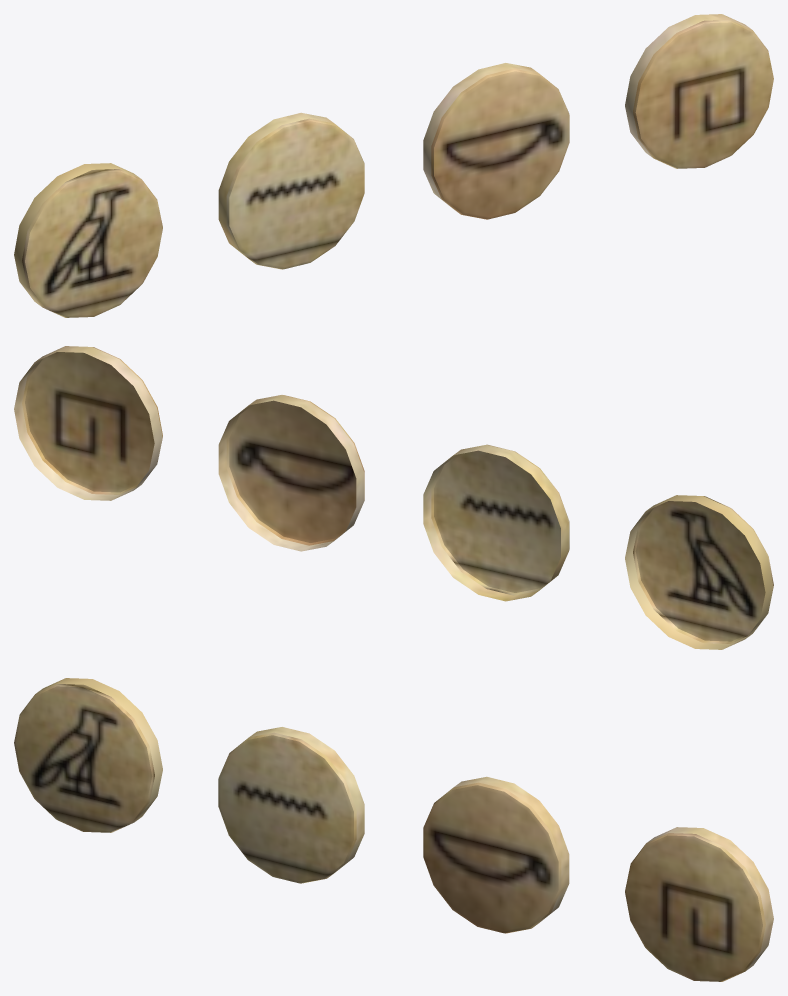
The model's file is Final Door Stone Tablets ANKH.fbx.
The picture shows the model from 3 angles, top to bottom: view 1: azimuth 30°, elevation 25°; view 2: azimuth 150°, elevation 25°; view 3: azimuth 330°, elevation 25°; orthographic projection.
Parts seen in each view (by area): view 1: Final Door A, Final Door H, Final Door K, Final Door N; view 2: Final Door A, Final Door H, Final Door K, Final Door N; view 3: Final Door A, Final Door H, Final Door N, Final Door K.
Boxes of the visible parts, x1,y1,x2,y2 form: Final Door A: (14,163,162,317); Final Door H: (625,14,773,168); Final Door K: (423,63,569,219); Final Door N: (218,112,364,269); Final Door A: (625,495,773,649); Final Door H: (14,346,162,500); Final Door K: (218,395,364,551); Final Door N: (423,444,569,601); Final Door A: (14,678,162,832); Final Door H: (625,827,773,981); Final Door N: (218,727,364,883); Final Door K: (423,776,569,933).
Bounding box in the file's own units: 145 × 27.17 × 3.47.
